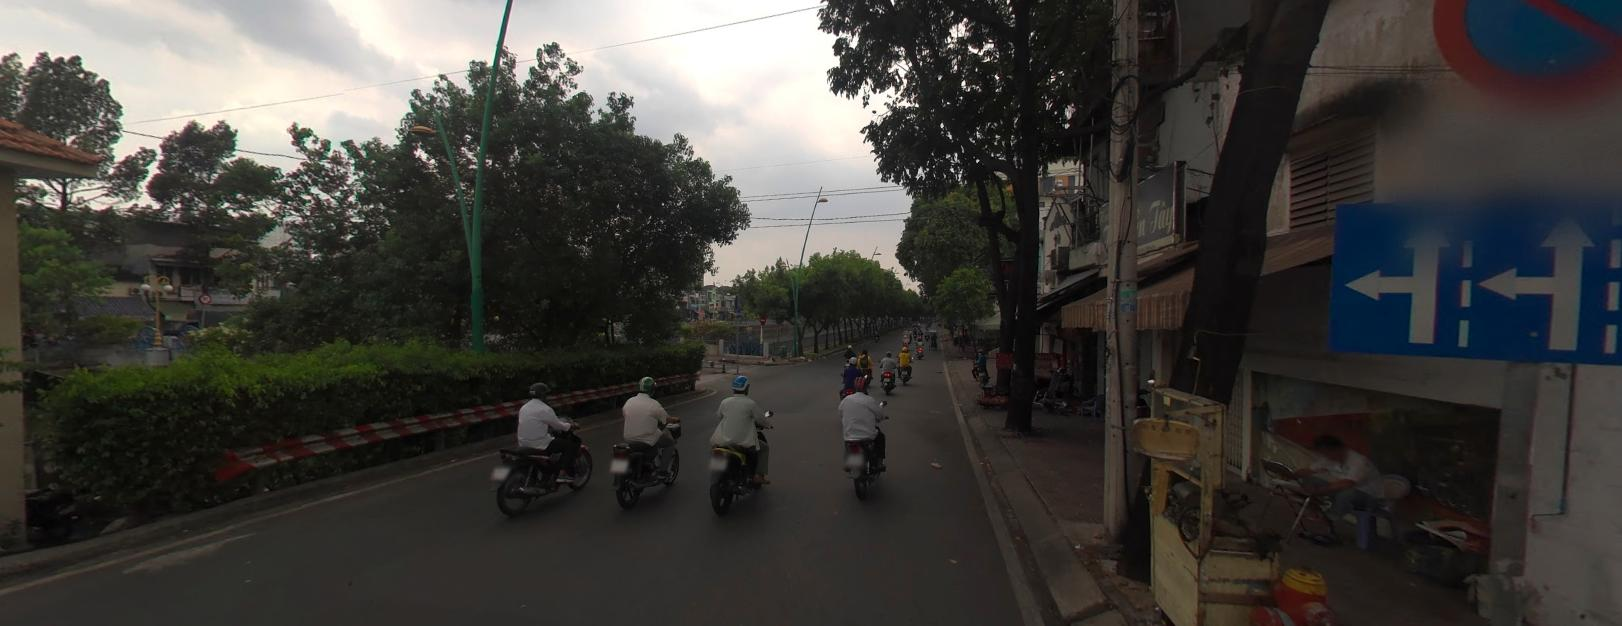Cam dung va do: (1428, 0, 1621, 114)
Cam nguoc chieu: (759, 312, 765, 323)
